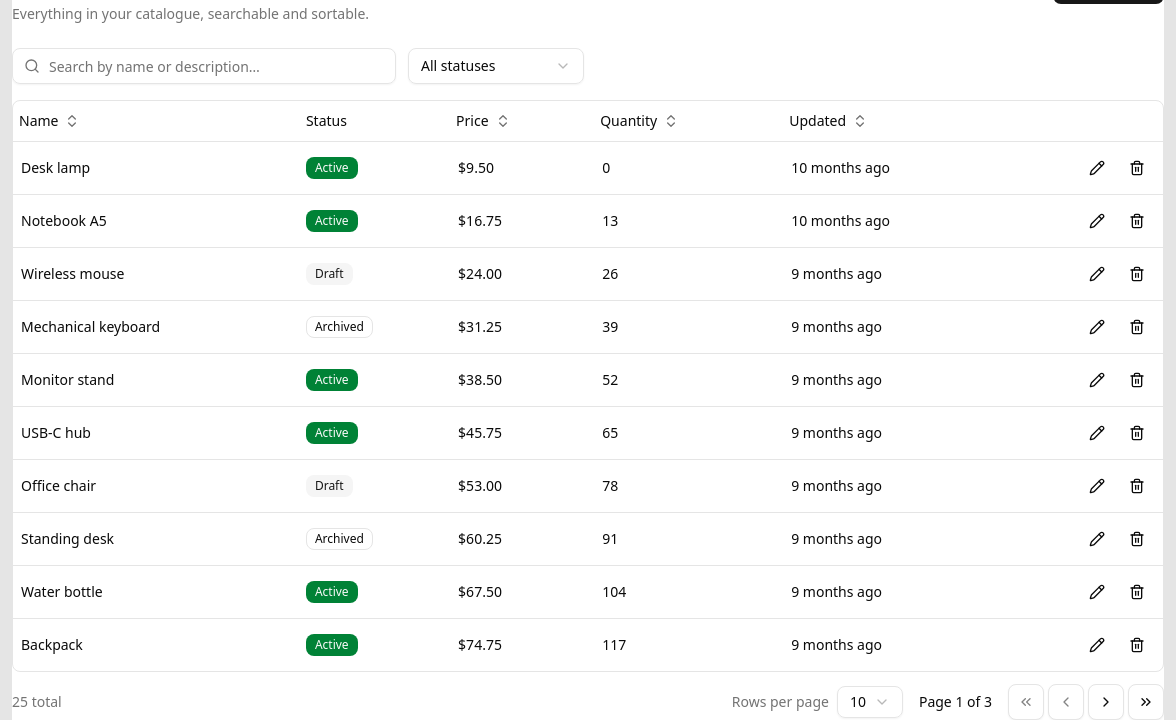
Test case: ItemsListPage › pages through the results
(page scrolled)
Check: the link "Desk lamp" is shown, box [21, 158, 90, 176]
Click the button named "Go to next page": (1106, 702) [1088, 684, 1124, 719]
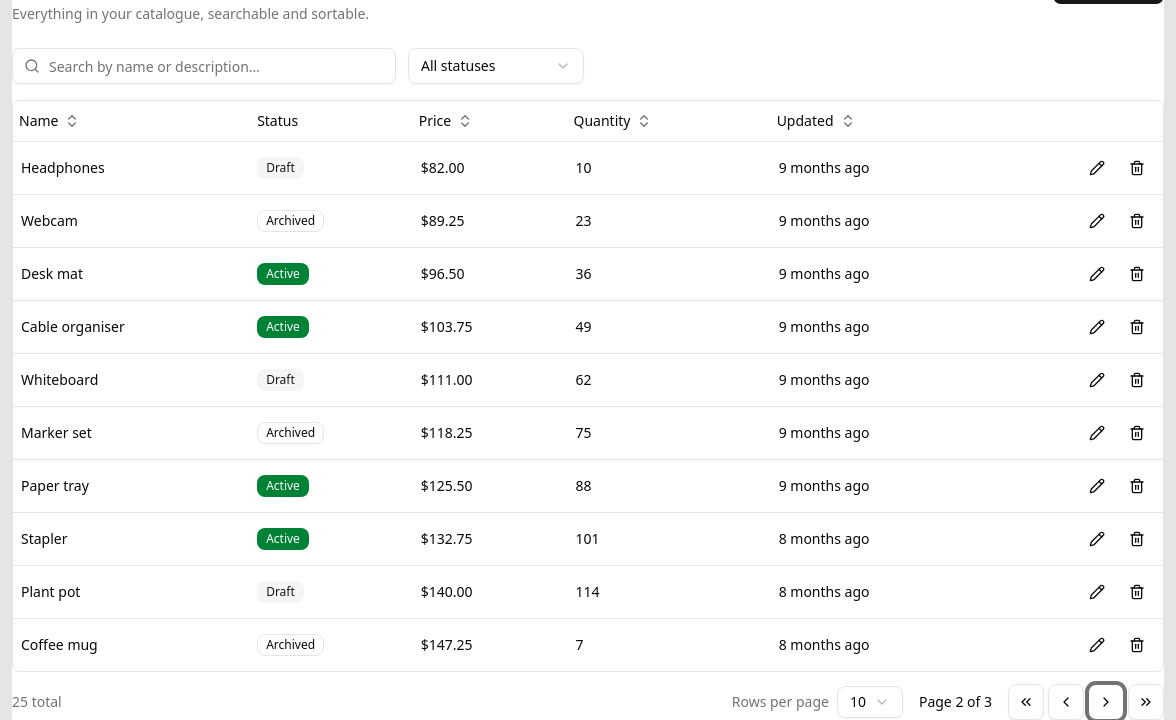
Check: the text "Page 2 of 3" is shown, box [919, 692, 992, 712]
